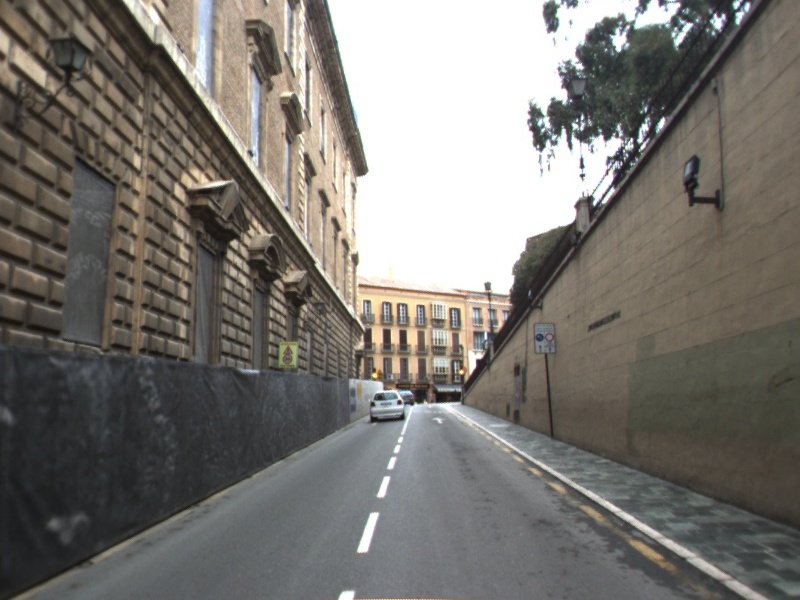STRAIGHT: (430, 415, 448, 425)
